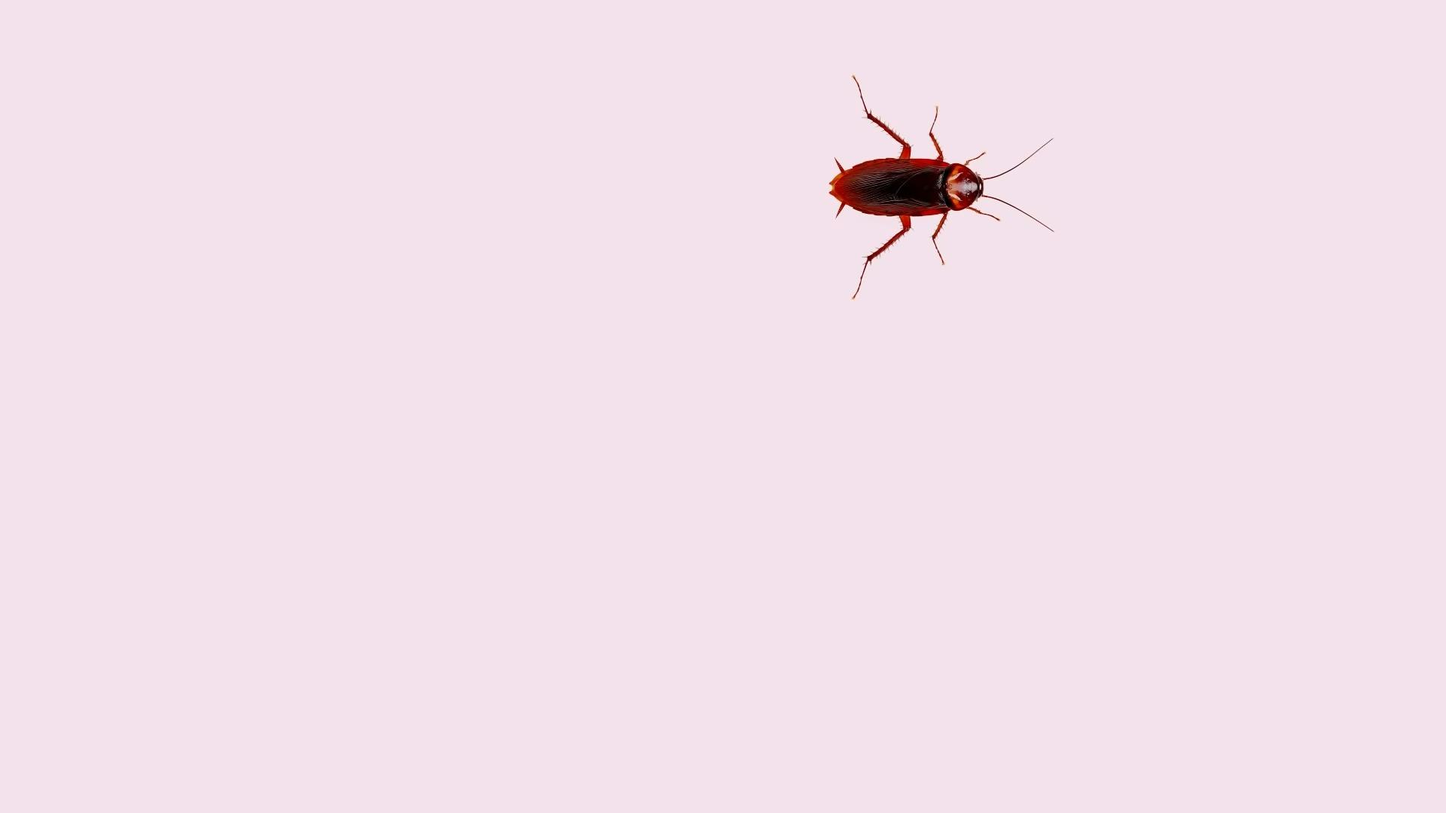cockroach: (825, 88, 1051, 270)
